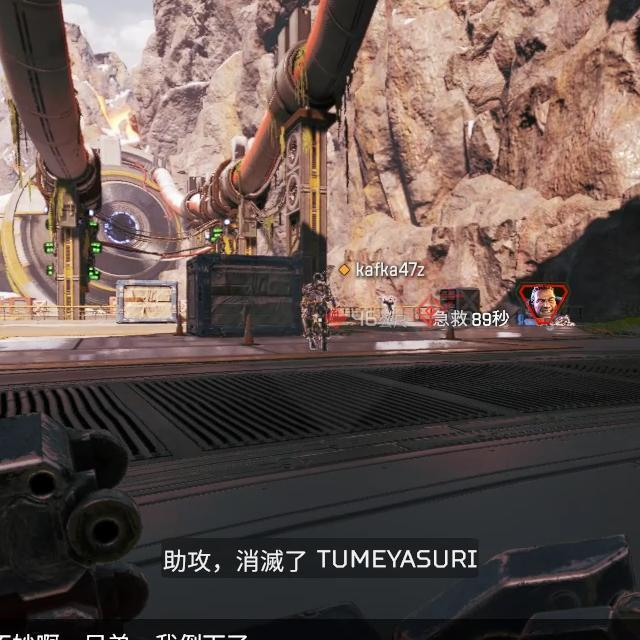avatar: (298, 272, 339, 352)
